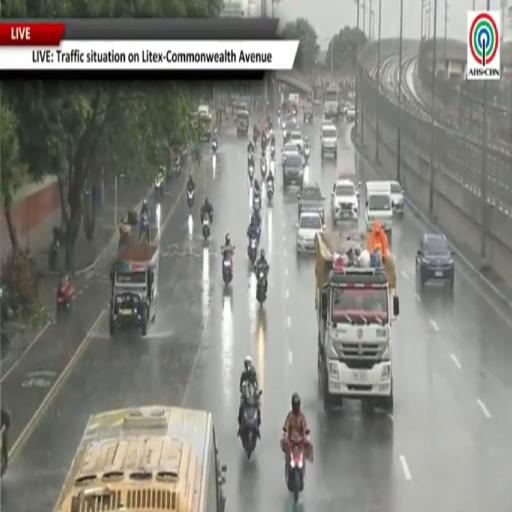car: (416, 233, 454, 290), (331, 179, 359, 222), (296, 213, 324, 252), (298, 183, 325, 222), (282, 153, 304, 190), (340, 172, 362, 199), (321, 124, 337, 159), (390, 182, 404, 217), (283, 142, 301, 165), (283, 119, 297, 143), (290, 131, 303, 153), (320, 119, 332, 137), (303, 103, 313, 123), (345, 104, 355, 122)
jeepney: (54, 406, 226, 511), (110, 240, 159, 335), (0, 409, 10, 476), (198, 112, 211, 141), (236, 110, 249, 135)
motorcycle: (241, 390, 262, 459), (285, 442, 305, 504), (57, 280, 74, 313), (222, 247, 234, 285), (256, 268, 267, 307), (48, 238, 59, 271), (119, 222, 132, 248), (140, 215, 150, 243), (248, 238, 257, 264), (155, 176, 164, 201), (202, 213, 210, 241), (266, 180, 274, 202), (253, 194, 261, 212), (261, 159, 267, 179), (188, 189, 194, 209), (249, 166, 254, 185), (248, 152, 254, 167), (304, 147, 309, 163), (212, 139, 217, 153), (253, 131, 258, 145), (271, 146, 275, 159)
truck: (315, 231, 399, 413), (365, 181, 392, 244), (324, 84, 340, 121), (198, 105, 211, 141), (303, 96, 313, 123), (288, 93, 299, 116)
